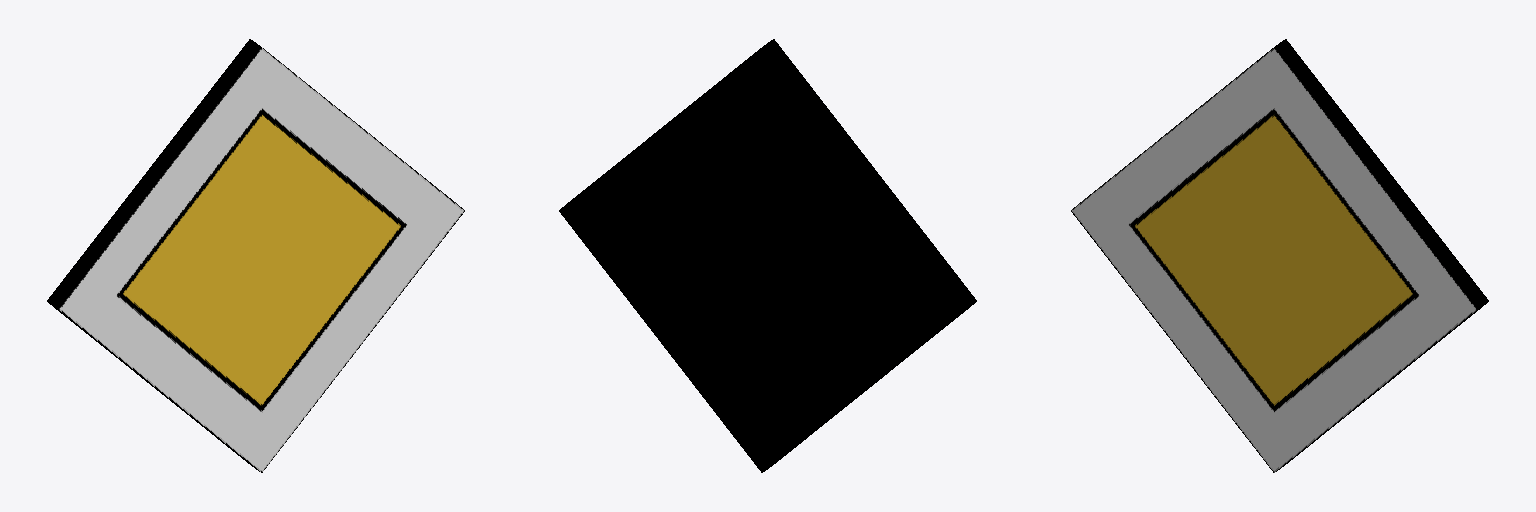
3 views of the same model, side by side, from view 1: azimuth 30°, elevation 25°; view 2: azimuth 150°, elevation 25°; view 3: azimuth 330°, elevation 25° (orthographic).
Visible parts, largest first — view 1: priority; view 2: priority; view 3: priority.
Boxes of the visible parts, box(x1,y1,x2,y2) form: priority: box(47, 39, 464, 472); priority: box(559, 39, 976, 472); priority: box(1071, 39, 1488, 472).
Bounding box in the file's own units: 2 × 2 × 0.1.
Materials: 1 (1 with a texture image).